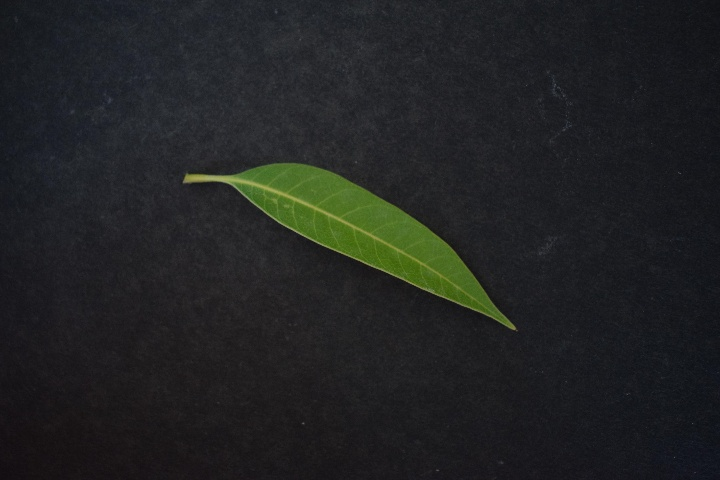healthy: (219, 157, 522, 340)
